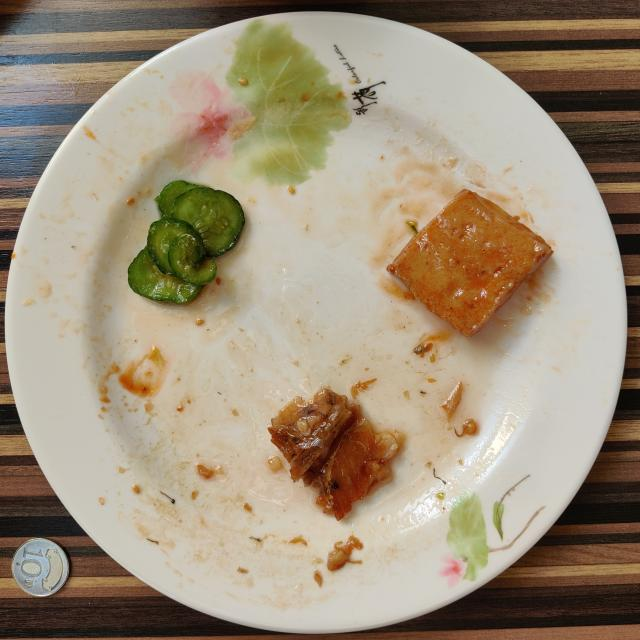Kabayaki sea bream fillet: (269, 389, 405, 520)
coin: (12, 538, 69, 596)
creamy tofu: (388, 189, 552, 336)
cucumber: (128, 180, 245, 304)
